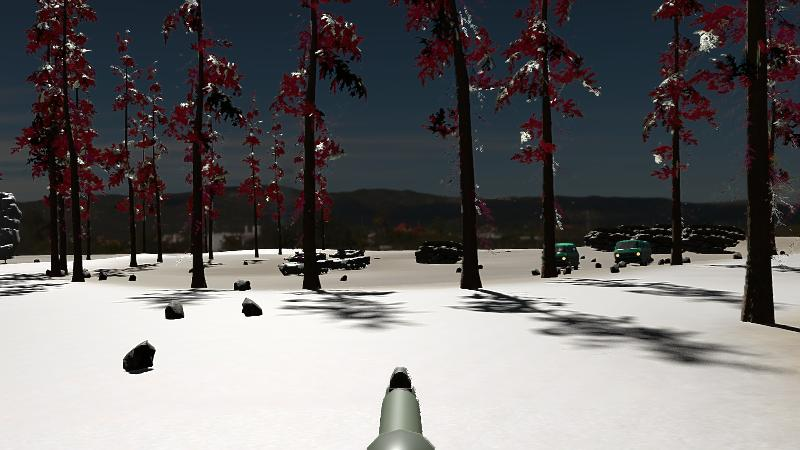Tank: (278, 247, 336, 277), (335, 248, 372, 271)
car: (542, 240, 581, 275), (613, 238, 654, 268)
